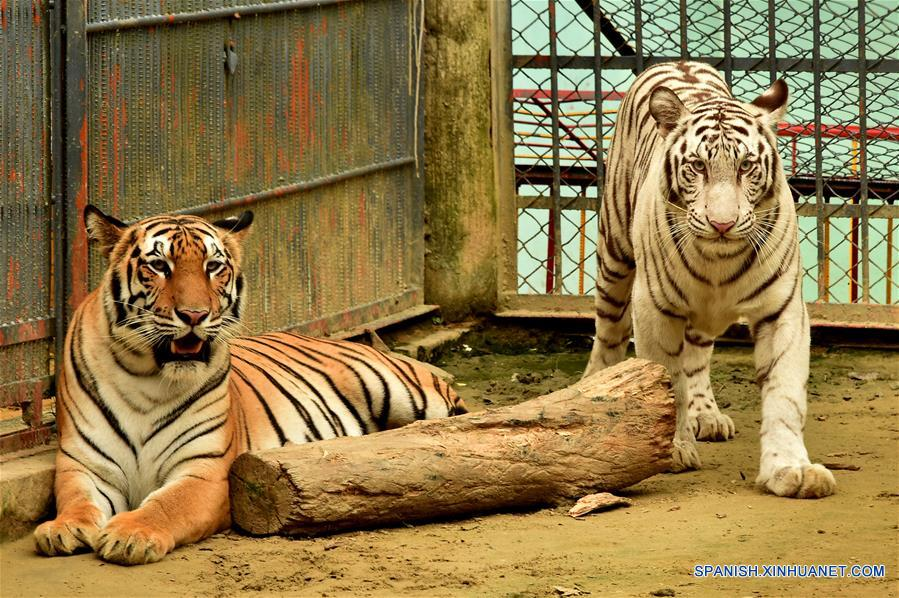Tigrew: (18, 175, 498, 529), (578, 49, 862, 509)
